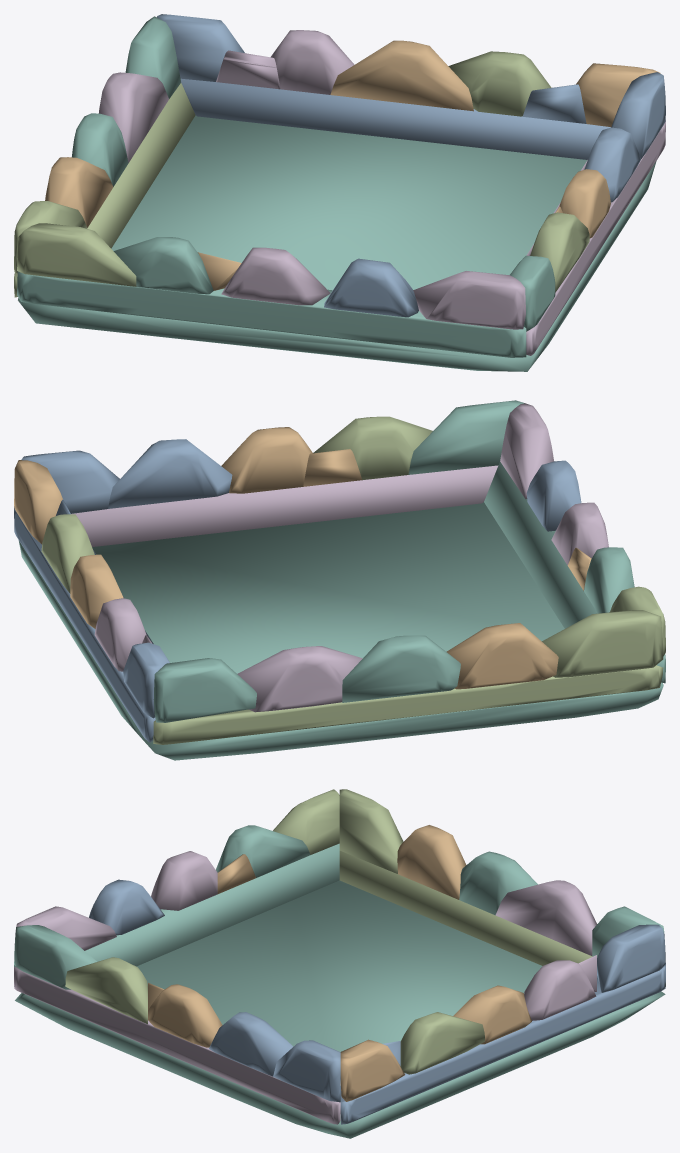
The picture shows the model from 3 angles, top to bottom: view 1: azimuth 30°, elevation 25°; view 2: azimuth 150°, elevation 25°; view 3: azimuth 270°, elevation 25°; orthographic projection. The views are drawn at different scales.
Bounding box in the file's own units: 1.99 × 0.2738 × 1.99.
